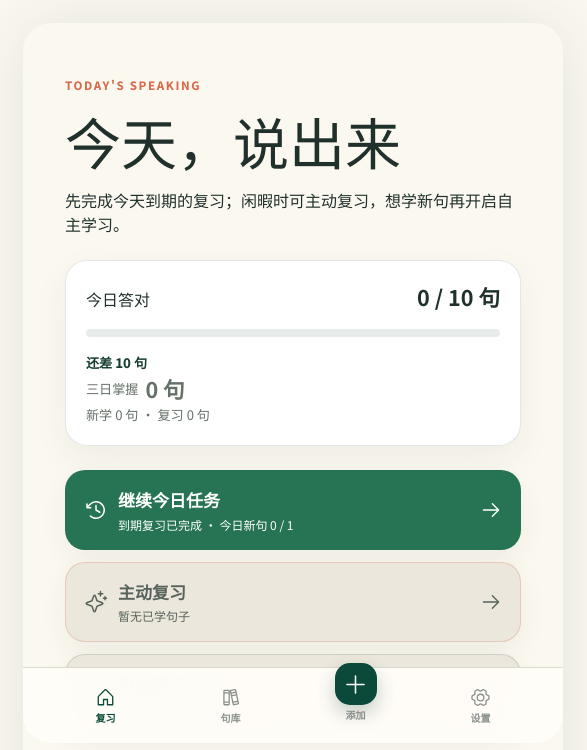
Test: PhraseBankApp › opens daily new-phrase learning directly when no review is due
Click the button "继续今日任务 到期复习已完成 · 今日新句 0 / 1".
click(169, 500)  # box [65, 470, 521, 550]
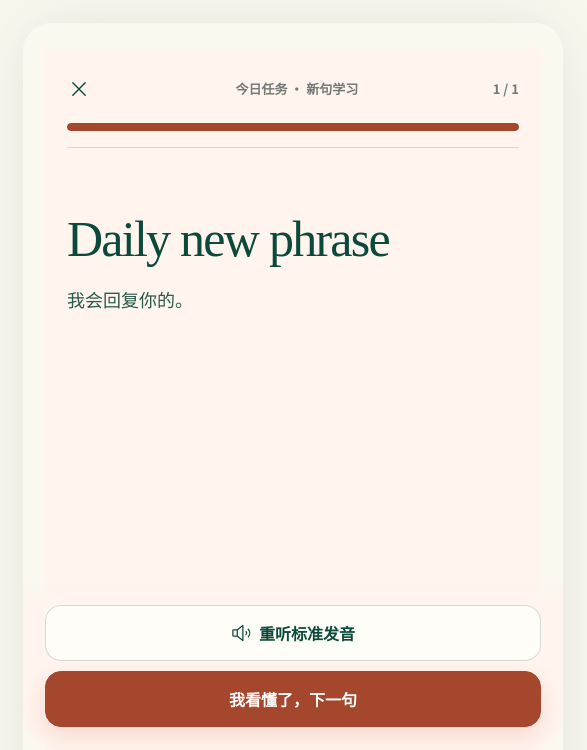
Expected: the text "今日任务 · 新句学习" is shown, [235, 79, 358, 99]
Expected: the heading "Daily new phrase" is shown, [67, 211, 389, 267]
